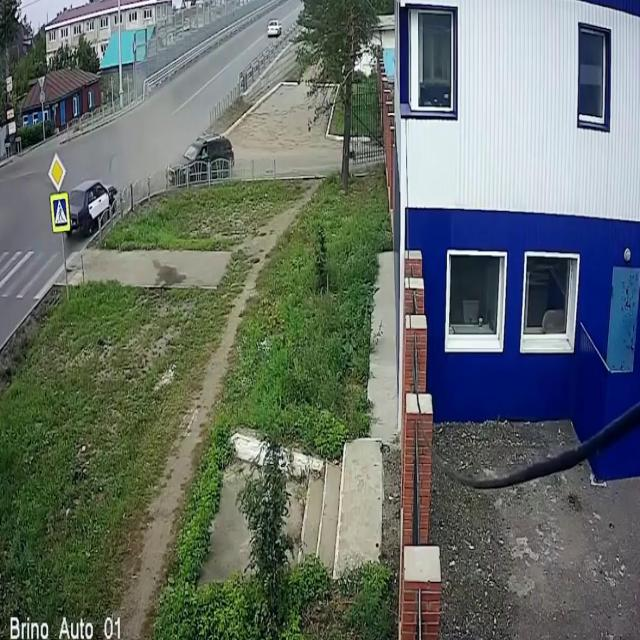accident: (54, 130, 239, 250)
